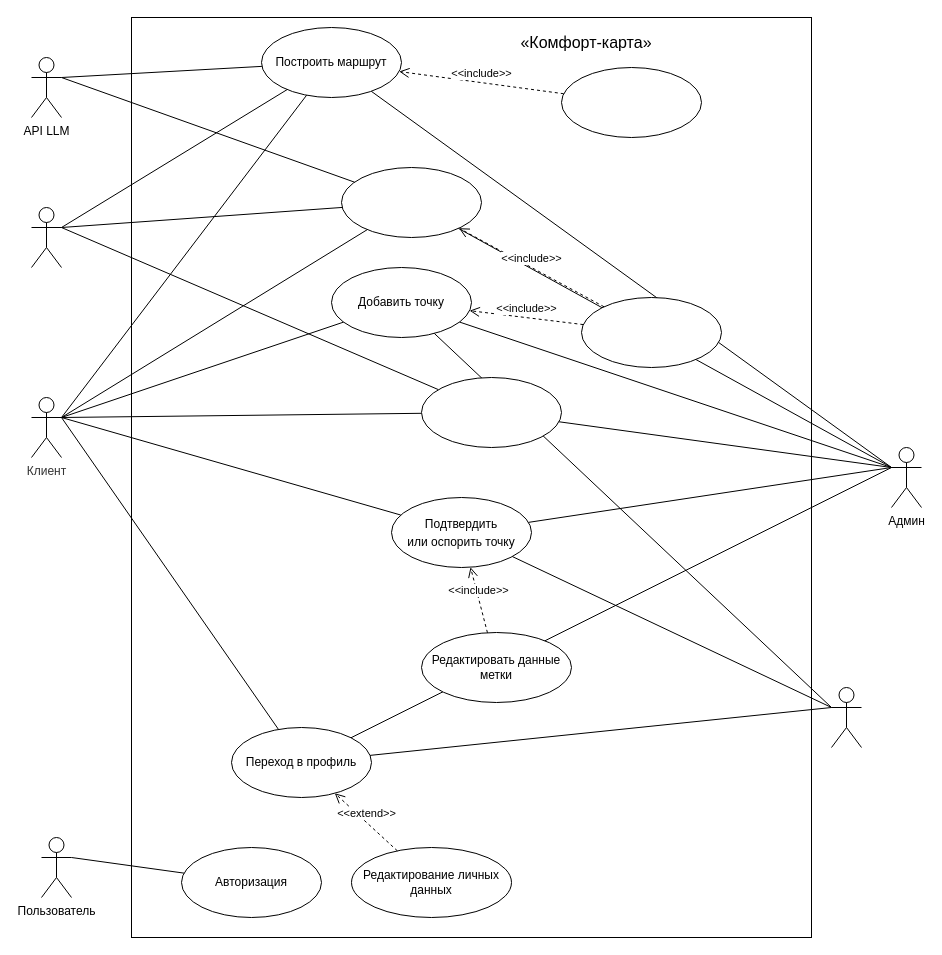
Some shapes in this 942 by 955 pixel diagram are drawn without their labels. Each missing label, with the centre of its shape:
"OSM" belongs at (46,237).
"«Режим отчаяния»" belongs at (491,412).
"Заполнить данные маршрута" belongs at (631,102).
"Заполнить данные метки" belongs at (651,332).
"Модератор" belongs at (846,717).
"Найти объект" belongs at (411,202).
